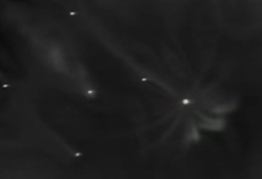Target: (4, 13, 188, 155)
